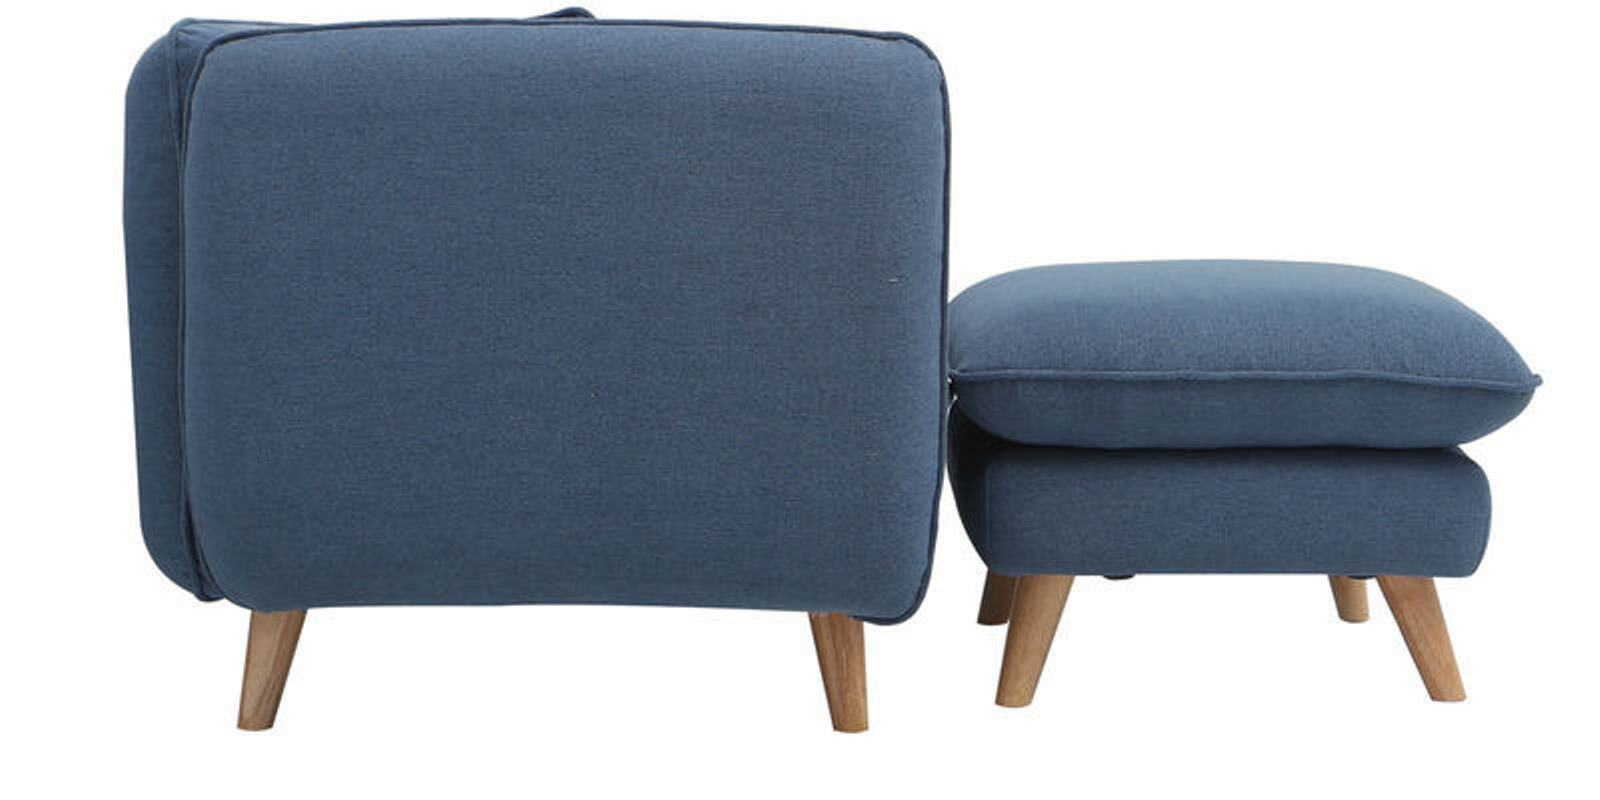Gloria Three Seater Sofa with Ottoman in Blue Colour by CasaCraft: (116, 19, 1587, 755)
